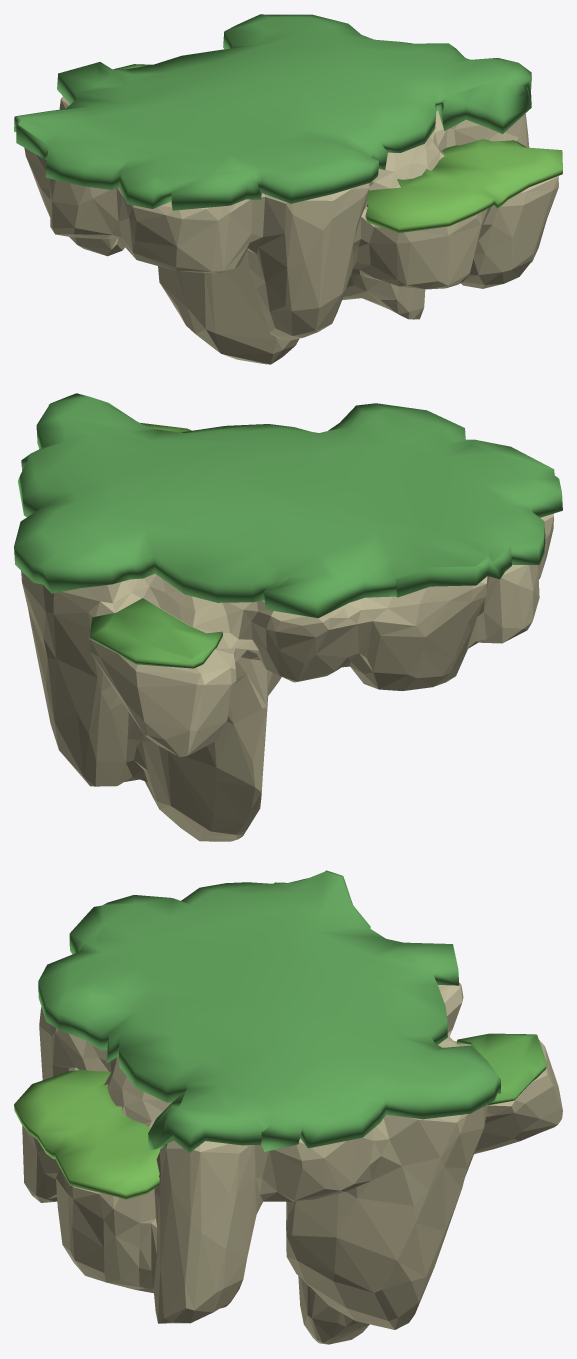
The model's file is IMPisland.glb.
3 renders of one model, top to bottom at view 1: azimuth 30°, elevation 25°; view 2: azimuth 150°, elevation 25°; view 3: azimuth 270°, elevation 25°, orthographic. The views are drawn at different scales.
Visible parts, largest first — view 1: Cube.001, Cube.011, Cube.003; view 2: Cube.001, Cube.011, Cube.002; view 3: Cube.001, Cube.011, Cube.003, Cube.002.
Part boxes in pixels (<box>): Cube.001: <box>14,14,531,210</box>; Cube.011: <box>24,96,558,364</box>; Cube.003: <box>365,139,562,232</box>; Cube.001: <box>14,393,562,618</box>; Cube.011: <box>21,513,553,841</box>; Cube.002: <box>90,598,222,668</box>; Cube.001: <box>38,870,500,1152</box>; Cube.011: <box>22,982,562,1344</box>; Cube.003: <box>14,1069,159,1199</box>; Cube.002: <box>456,1033,547,1105</box>.
Bounding box in the file's own units: 10.72 × 6.73 × 9.95.
